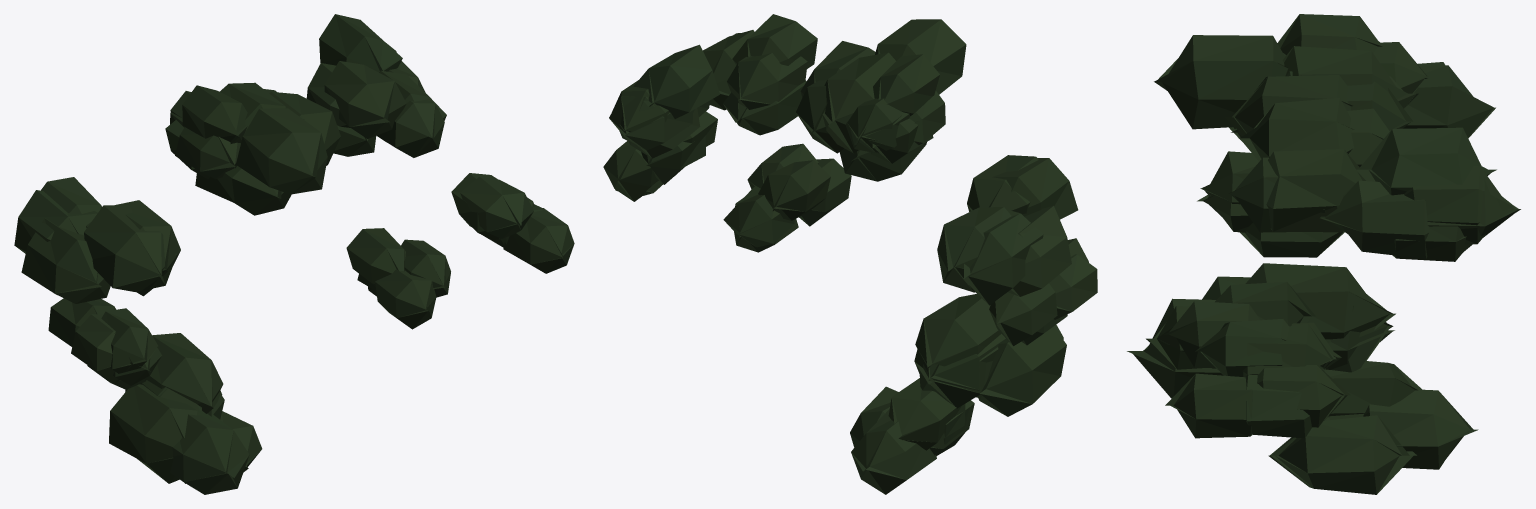
The model's file is tree_m16_far.obj.
3 renders of one model, left to right at view 1: azimuth 30°, elevation 25°; view 2: azimuth 150°, elevation 25°; view 3: azimuth 270°, elevation 25°, orthographic. The views are drawn at different scales.
Bounding box in the file's own units: 1.75 × 1.38 × 1.06.
1 material, 1 textured.
